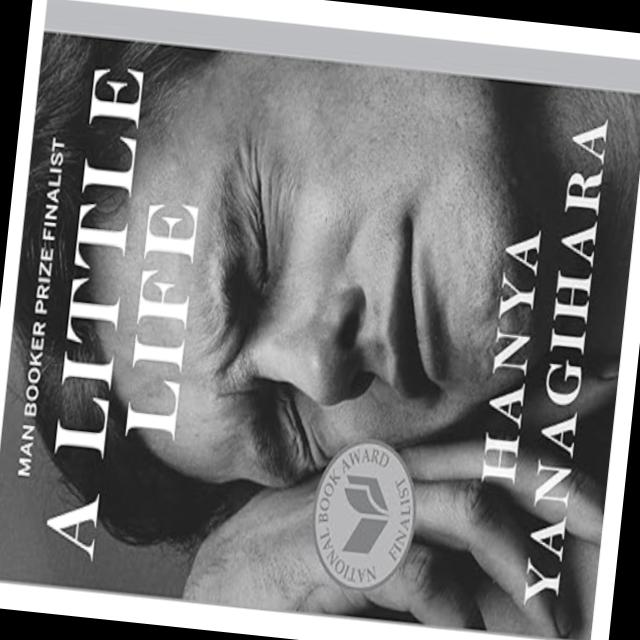titles-or-authors: (30, 52, 219, 573), (457, 101, 621, 615)
